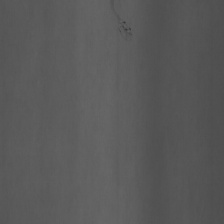inclusion: (116, 20, 133, 40), (109, 0, 119, 17)
